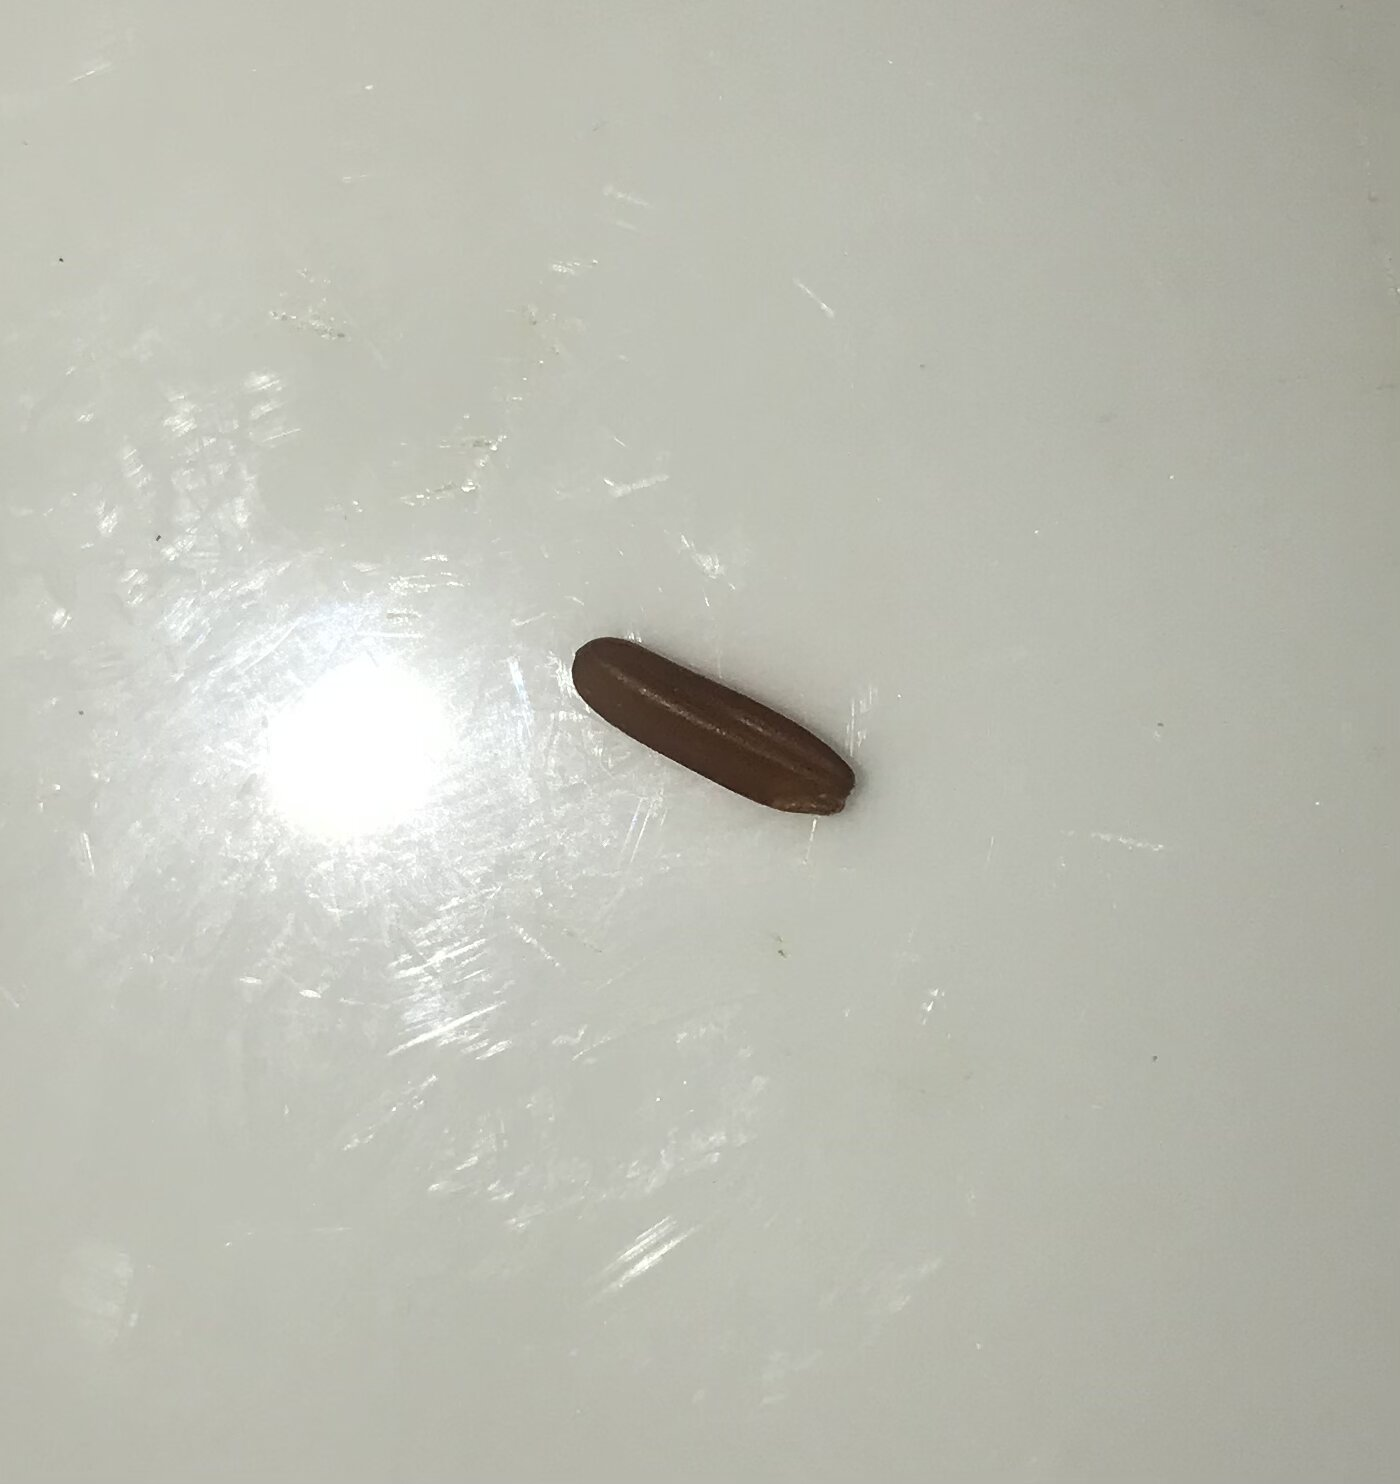Gao Huyet Rong: (557, 626, 863, 828)
